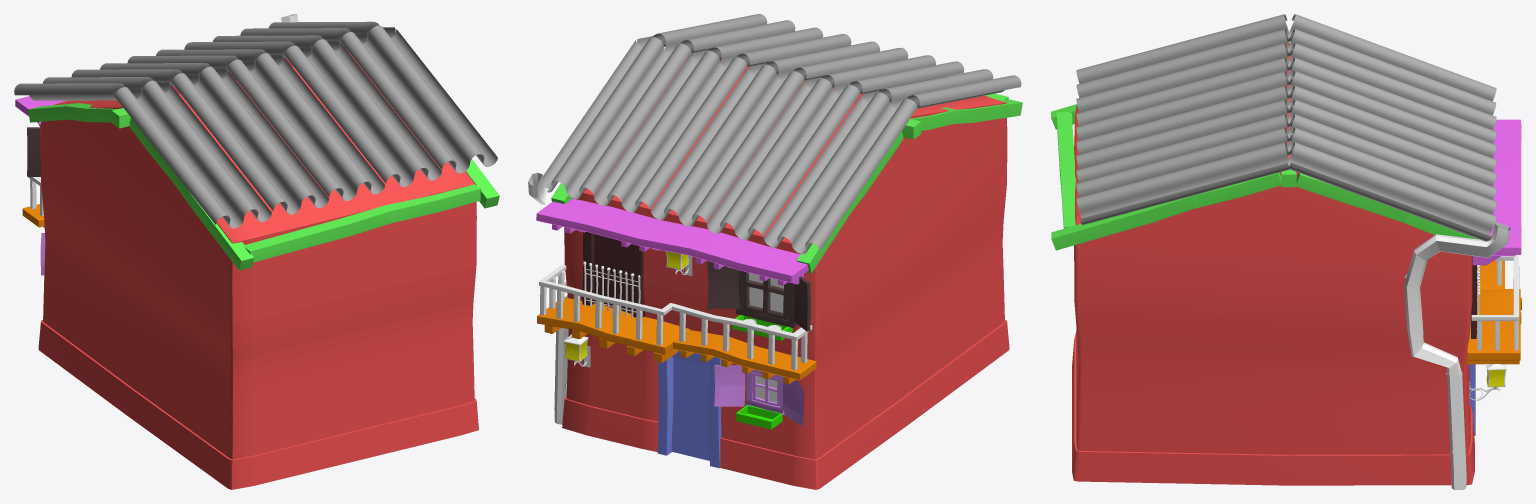
The model's file is casa_pueblo_low_02.fbx.
3 renders of one model, left to right at view 1: azimuth 30°, elevation 25°; view 2: azimuth 150°, elevation 25°; view 3: azimuth 270°, elevation 25°, orthographic. The views are drawn at different scales.
Visible parts, largest first — view 1: polySurface162, group5, TRONCOSCASATOP_ALDEANOS, polySurface163, casa_aldeanos_bloque_05:pasted__pCube10866; view 2: polySurface162, group5, TOPTECHO_BALCON, BALCONCASAALDEANOS, casa_aldeanos_bloque_05:pasted__polySurface18447, TRONCOSCASATOP_ALDEANOS, polySurface7, PUERTACASAPRIMER_PISO, casa_aldeanos_bloque_05:pasted__pCube10866, barandas, polySurface160, casa_aldeanos_bloque_05:pasted__pCube11005 (+8 smaller); view 3: polySurface162, group5, TRONCOSCASATOP_ALDEANOS, TUBOCASA_ALDEANOS, TOPTECHO_BALCON, BALCONCASAALDEANOS, barandas, polySurface7.
Part boxes in pixels (<box>): polySurface162: <box>38,107,478,489</box>; group5: <box>14,21,497,228</box>; TRONCOSCASATOP_ALDEANOS: <box>28,45,499,270</box>; polySurface163: <box>53,49,473,240</box>; casa_aldeanos_bloque_05:pasted__pCube10866: <box>27,127,40,176</box>; polySurface162: <box>562,102,1009,489</box>; group5: <box>543,14,1021,253</box>; TOPTECHO_BALCON: <box>536,198,808,285</box>; BALCONCASAALDEANOS: <box>537,297,689,362</box>; casa_aldeanos_bloque_05:pasted__polySurface18447: <box>671,357,709,460</box>; TRONCOSCASATOP_ALDEANOS: <box>551,53,1022,273</box>; polySurface7: <box>672,329,816,384</box>; PUERTACASAPRIMER_PISO: <box>657,350,721,468</box>; casa_aldeanos_bloque_05:pasted__pCube10866: <box>707,261,810,331</box>; barandas: <box>539,265,812,340</box>; polySurface160: <box>593,234,644,316</box>; casa_aldeanos_bloque_05:pasted__pCube11005: <box>714,365,803,425</box>; polySurface162: <box>1072,105,1474,485</box>; group5: <box>1076,14,1496,241</box>; TRONCOSCASATOP_ALDEANOS: <box>1051,41,1479,250</box>; TUBOCASA_ALDEANOS: <box>1404,221,1510,489</box>; TOPTECHO_BALCON: <box>1472,119,1521,265</box>; BALCONCASAALDEANOS: <box>1466,289,1521,364</box>; barandas: <box>1471,255,1519,320</box>; polySurface7: <box>1477,260,1504,288</box>.
Bounding box in the file's own units: 1799 × 1989 × 2501.
